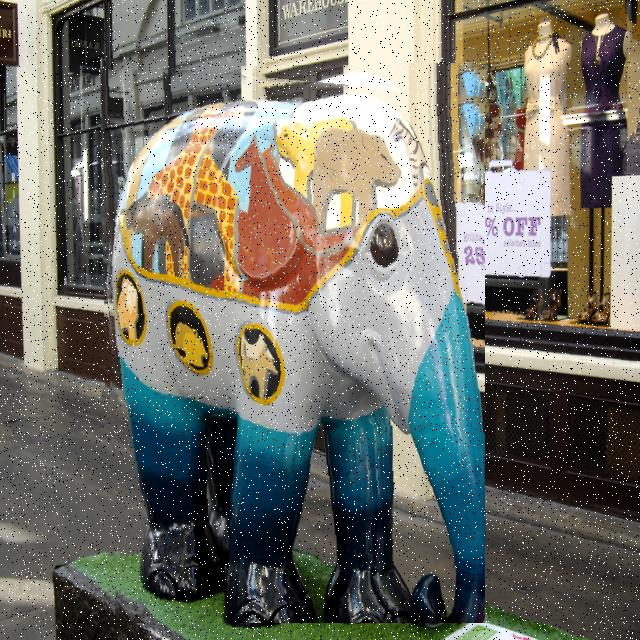elephant: (103, 64, 485, 624)
